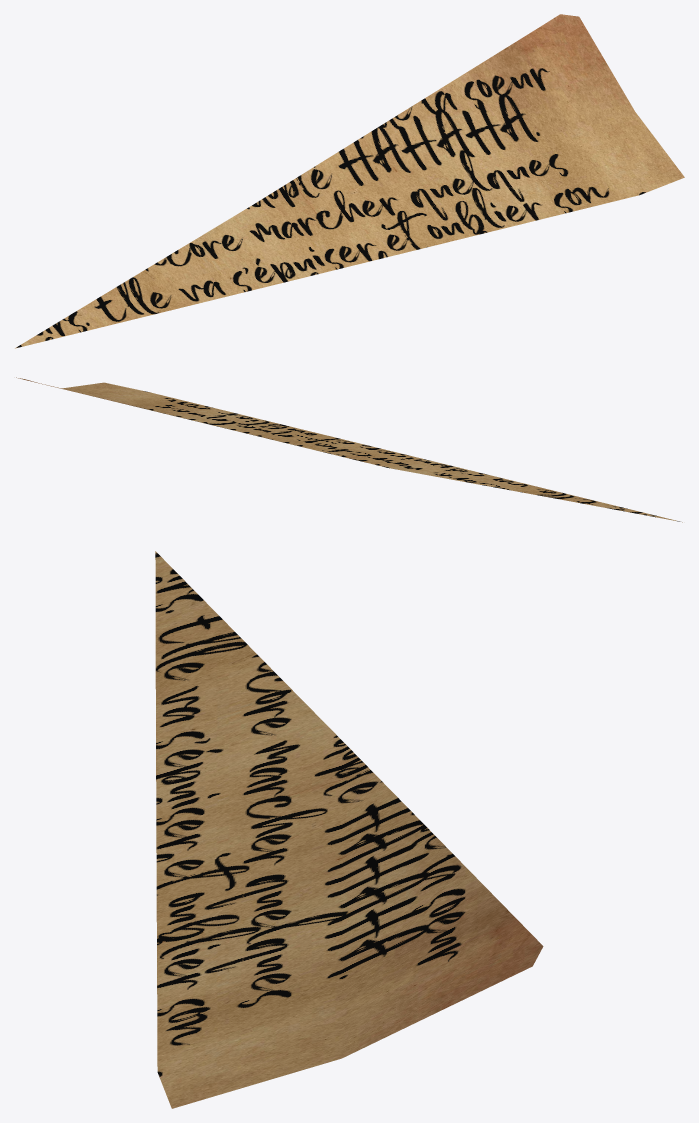
The model's file is lettre_partie3.fbx.
3 renders of one model, top to bottom at view 1: azimuth 30°, elevation 25°; view 2: azimuth 150°, elevation 25°; view 3: azimuth 270°, elevation 25°, orthographic. The views are drawn at different scales.
Visible parts, largest first — view 1: polySurface4; view 2: polySurface4; view 3: polySurface4.
Boxes of the visible parts, bbox=[...] form: polySurface4: bbox=[15, 14, 684, 348]; polySurface4: bbox=[16, 377, 682, 522]; polySurface4: bbox=[155, 551, 543, 1108].
Size of the model in its own units: 4.9 by 0.6267 by 1.43.
